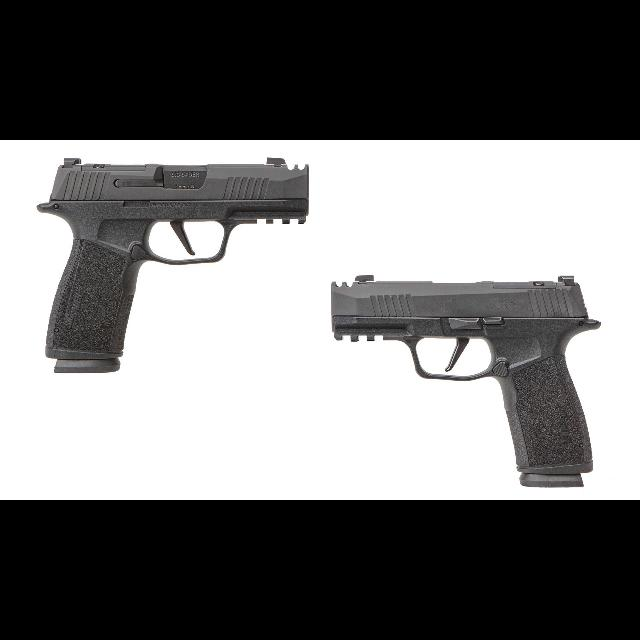handgun: (32, 152, 314, 376), (328, 270, 604, 490)
